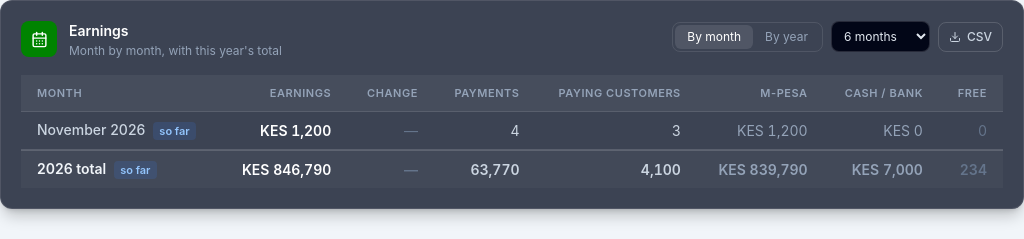
Test: shows this year's total under the months, and a row per year
Expected: the text "2026 total" is shown, [21,150,220,188]
Expected: the text "KES 846,790" is shown, [220,150,347,188]
# A closed year keeps its own row.
Click the tab "By year" at {"x": 787, "y": 36}, box [753,24,820,48]
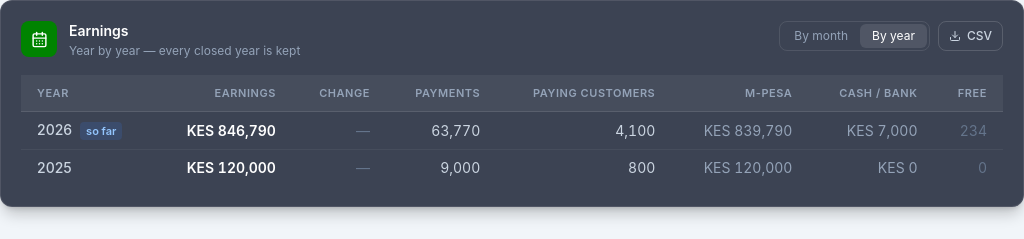
Now the text "2025" is shown, box [21,150,154,186]
Now the 1st text "KES 120,000" is shown, box [154,150,292,186]
